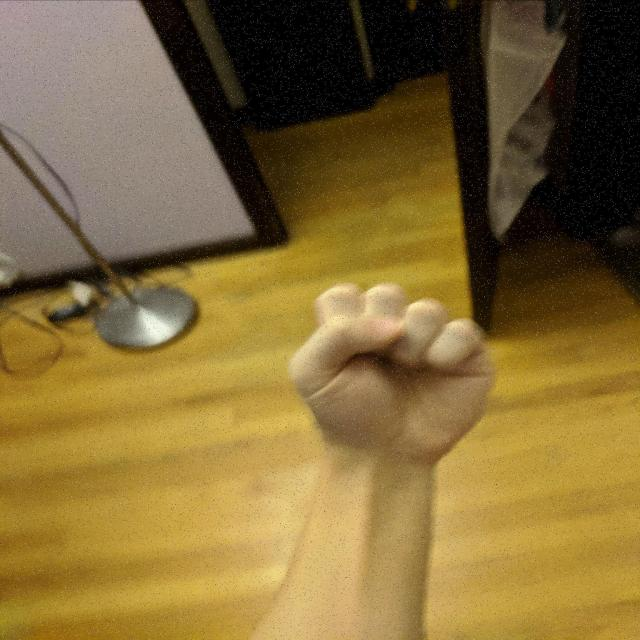S: (280, 276, 504, 471)
